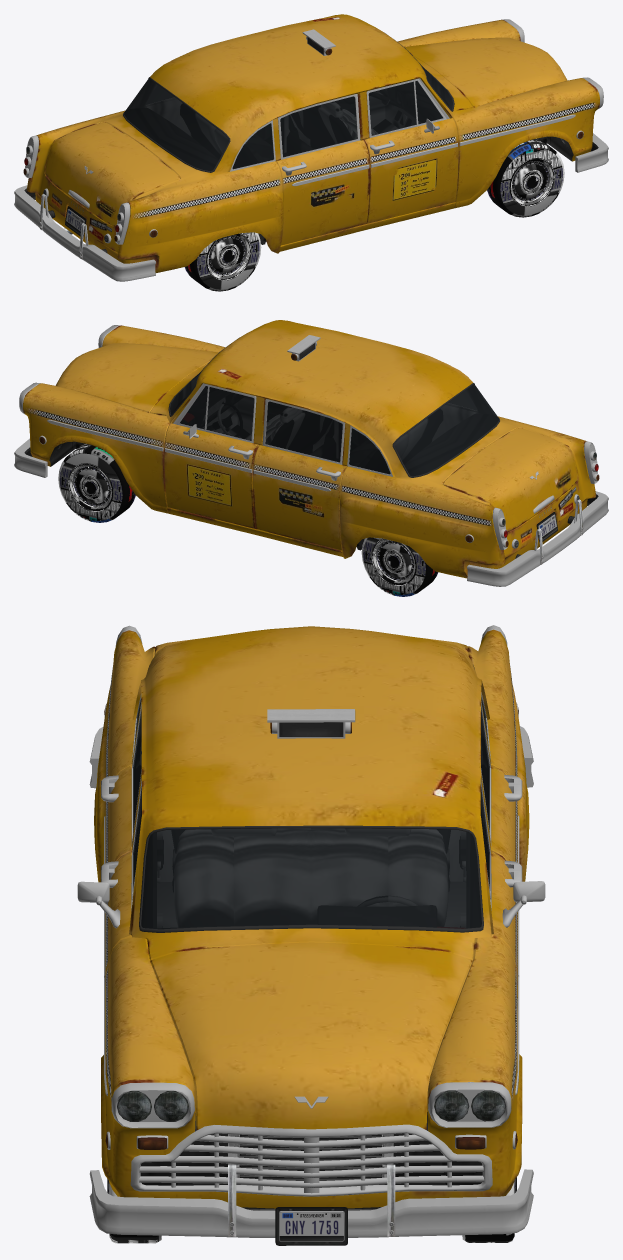
The model's file is taxi.gltf.
3 renders of one model, top to bottom at view 1: azimuth 30°, elevation 25°; view 2: azimuth 150°, elevation 25°; view 3: azimuth 270°, elevation 25°, orthographic. The views are drawn at different scales.
Parts seen in each view (by area): view 1: Canyon75_Body_Canyon75_Bodymat_0, Canyon75_Interior_UCB_Interiors_2_0, Canyon75_Trunk_door_Canyon75_Bodymat_0, Canyon75_Hood_Canyon75_Bodymat_0, Canyon75_Bottom_UCB_BOTTOM_0, Canyon75_Rear_windows_UCB_Lights_and_Glass_Transperent_0, Canyon75_WheelStock_FR_RB1c_Tire_1k_0, Canyon75_Bodyglass_UCB_Lights_and_Glass_Transperent_0, Canyon75_Bumper_rear_UCB_BOTTOM_0, Canyon75_WheelStock_RR_RB1c_Tire_1k_0, Canyon75_Glass_Passenger_UCB_Lights_and_Glass_Transperent_0, Canyon75_Bumper_front_UCB_BOTTOM_0 (+1 smaller); view 2: Canyon75_Body_Canyon75_Bodymat_0, Canyon75_Interior_UCB_Interiors_2_0, Canyon75_Trunk_door_Canyon75_Bodymat_0, Canyon75_Hood_Canyon75_Bodymat_0, Canyon75_Bottom_UCB_BOTTOM_0, Canyon75_Rear_windows_UCB_Lights_and_Glass_Transperent_0, Canyon75_WheelStock_FL_RB1c_Tire_1k_0, Canyon75_Bodyglass_UCB_Lights_and_Glass_Transperent_0, Canyon75_Bumper_rear_UCB_BOTTOM_0, Canyon75_WheelStock_RL_RB1c_Tire_1k_0, Canyon75_Glass_Driver_UCB_Lights_and_Glass_Transperent_0, Canyon75_Bumper_front_UCB_BOTTOM_0 (+1 smaller); view 3: Canyon75_Body_Canyon75_Bodymat_0, Canyon75_Hood_Canyon75_Bodymat_0, Canyon75_Bottom_UCB_BOTTOM_0, Canyon75_Interior_UCB_Interiors_2_0, Canyon75_Windshield_UCB_Lights_and_Glass_Transperent_0, Canyon75_Bumper_front_UCB_BOTTOM_0, Canyon75_Headlights_UCB_Lights_and_Glass_0, Canyon75_Taxi_Beacon_UCB_BOTTOM_0, Canyon75_Numberplate_Front_Numberplates_Misk_U_0, Canyon75_Bodyglass_UCB_Lights_and_Glass_Transperent_0, Canyon75_Bumper_rear_UCB_BOTTOM_0.
Boxes of the visible parts, bbox=[...] form: Canyon75_Body_Canyon75_Bodymat_0: bbox=[26, 14, 599, 272]; Canyon75_Interior_UCB_Interiors_2_0: bbox=[124, 71, 452, 170]; Canyon75_Trunk_door_Canyon75_Bodymat_0: bbox=[45, 122, 179, 226]; Canyon75_Hood_Canyon75_Bodymat_0: bbox=[404, 37, 567, 107]; Canyon75_Bottom_UCB_BOTTOM_0: bbox=[23, 19, 603, 244]; Canyon75_Rear_windows_UCB_Lights_and_Glass_Transperent_0: bbox=[124, 78, 273, 171]; Canyon75_WheelStock_FR_RB1c_Tire_1k_0: bbox=[487, 138, 564, 217]; Canyon75_Bodyglass_UCB_Lights_and_Glass_Transperent_0: bbox=[280, 81, 443, 157]; Canyon75_Bumper_rear_UCB_BOTTOM_0: bbox=[14, 185, 155, 281]; Canyon75_WheelStock_RR_RB1c_Tire_1k_0: bbox=[184, 232, 261, 291]; Canyon75_Glass_Passenger_UCB_Lights_and_Glass_Transperent_0: bbox=[368, 81, 416, 135]; Canyon75_Bumper_front_UCB_BOTTOM_0: bbox=[575, 133, 608, 172]; Canyon75_Body_Canyon75_Bodymat_0: bbox=[23, 320, 596, 578]; Canyon75_Interior_UCB_Interiors_2_0: bbox=[170, 376, 498, 475]; Canyon75_Trunk_door_Canyon75_Bodymat_0: bbox=[443, 428, 577, 531]; Canyon75_Hood_Canyon75_Bodymat_0: bbox=[55, 343, 218, 412]; Canyon75_Bottom_UCB_BOTTOM_0: bbox=[19, 325, 599, 549]; Canyon75_Rear_windows_UCB_Lights_and_Glass_Transperent_0: bbox=[349, 384, 498, 476]; Canyon75_WheelStock_FL_RB1c_Tire_1k_0: bbox=[58, 444, 135, 522]; Canyon75_Bodyglass_UCB_Lights_and_Glass_Transperent_0: bbox=[179, 386, 342, 462]; Canyon75_Bumper_rear_UCB_BOTTOM_0: bbox=[467, 491, 608, 586]; Canyon75_WheelStock_RL_RB1c_Tire_1k_0: bbox=[361, 537, 438, 596]; Canyon75_Glass_Driver_UCB_Lights_and_Glass_Transperent_0: bbox=[206, 387, 254, 440]; Canyon75_Bumper_front_UCB_BOTTOM_0: bbox=[14, 438, 47, 477]; Canyon75_Body_Canyon75_Bodymat_0: bbox=[94, 626, 529, 1208]; Canyon75_Hood_Canyon75_Bodymat_0: bbox=[150, 942, 472, 1129]; Canyon75_Bottom_UCB_BOTTOM_0: bbox=[77, 625, 545, 1210]; Canyon75_Interior_UCB_Interiors_2_0: bbox=[134, 720, 488, 928]; Canyon75_Windshield_UCB_Lights_and_Glass_Transperent_0: bbox=[141, 828, 481, 929]; Canyon75_Bumper_front_UCB_BOTTOM_0: bbox=[89, 1164, 533, 1245]; Canyon75_Headlights_UCB_Lights_and_Glass_0: bbox=[117, 1090, 505, 1121]; Canyon75_Taxi_Beacon_UCB_BOTTOM_0: bbox=[267, 709, 355, 738]; Canyon75_Numberplate_Front_Numberplates_Misk_U_0: bbox=[279, 1211, 344, 1241]; Canyon75_Bodyglass_UCB_Lights_and_Glass_Transperent_0: bbox=[133, 708, 490, 898]; Canyon75_Bumper_rear_UCB_BOTTOM_0: bbox=[89, 726, 533, 788].
Bounding box in the file's own units: 5.31 × 1.83 × 2.13.
Materials: 8 (8 with a texture image).
